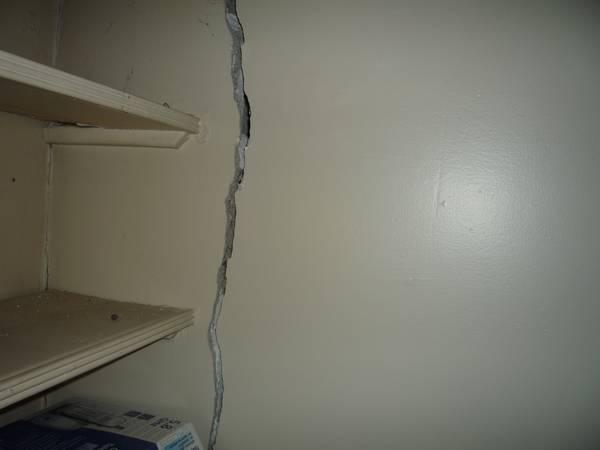crack: (207, 0, 251, 450)
